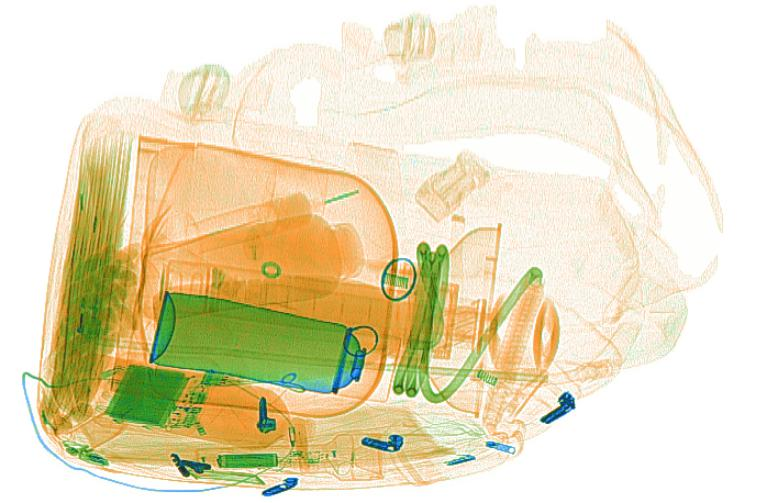battery: (215, 452, 281, 468)
lighter: (70, 290, 97, 366)
pressure: (147, 290, 405, 405)
